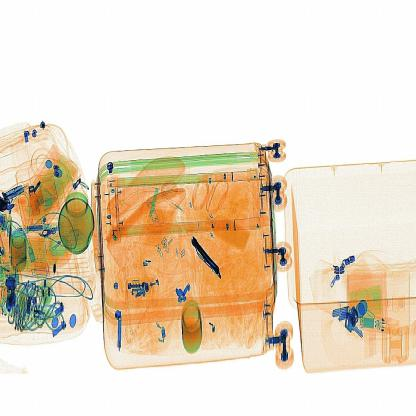knife: (183, 227, 235, 277)
